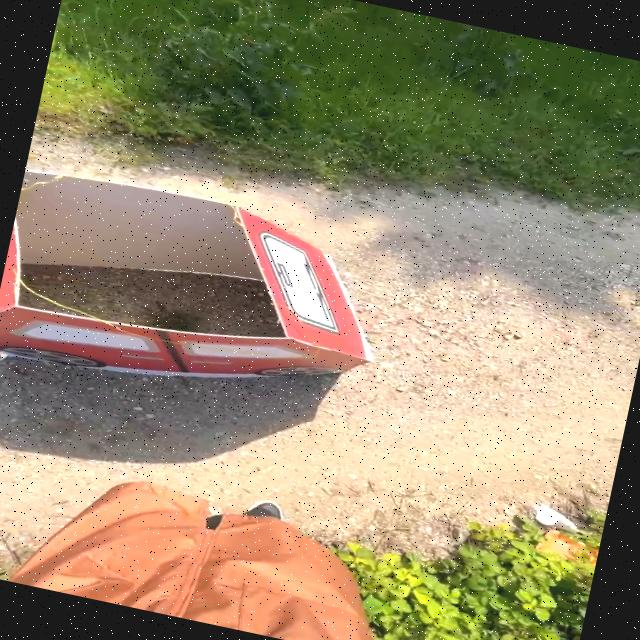red_car: (0, 142, 444, 459)
